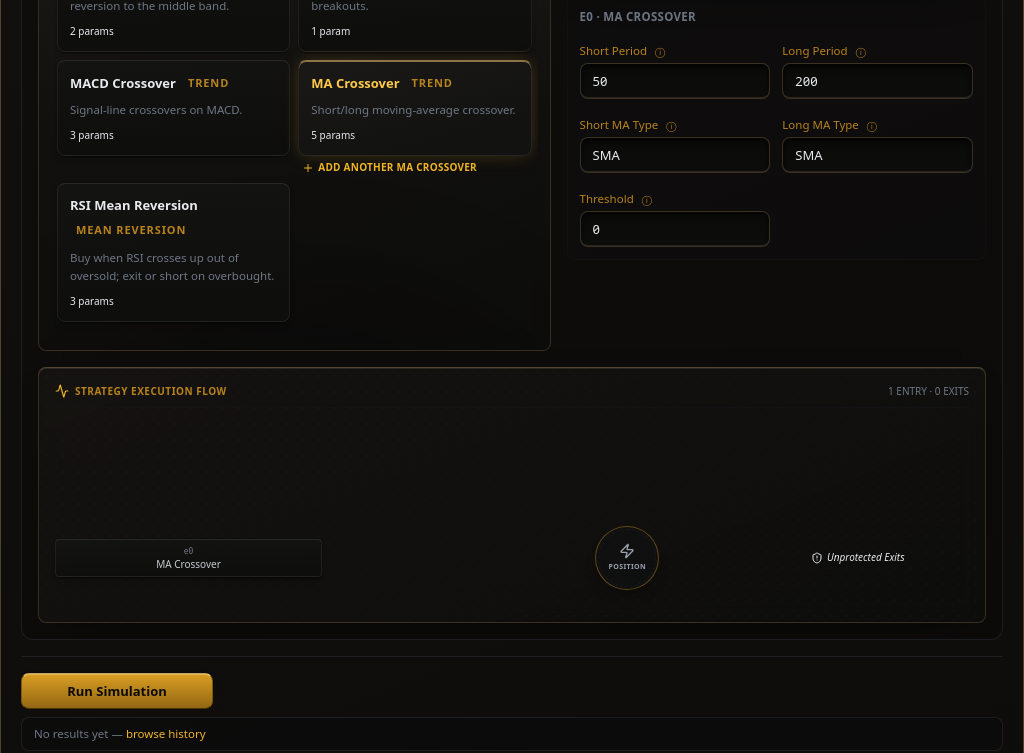
Test: BacktestsWorkspace — focus swap › routes the pre-run results teaser to history
This screenshot has width=1024, height=753.
(page scrolled)
expect the button "MA Crossover" is shown: met, box [298,60,532,156]
Click the button with aria-label "Open backtest history". click: click(80, 733)
box: [21,717,1003,751]
(page scrolled)
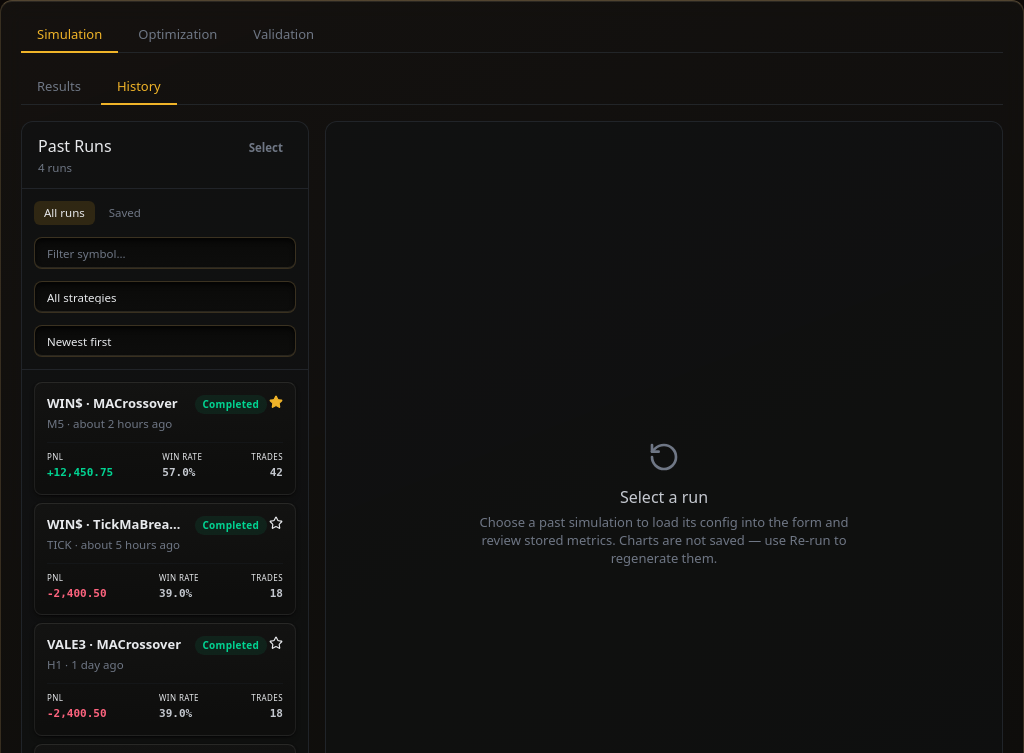
expect the button "Saved" is shown: met, box [99,201,151,225]
